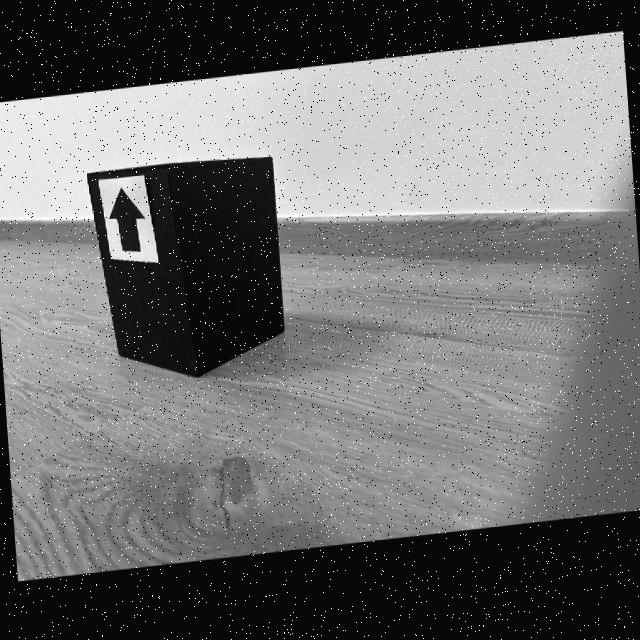UP: (109, 189, 144, 253)
